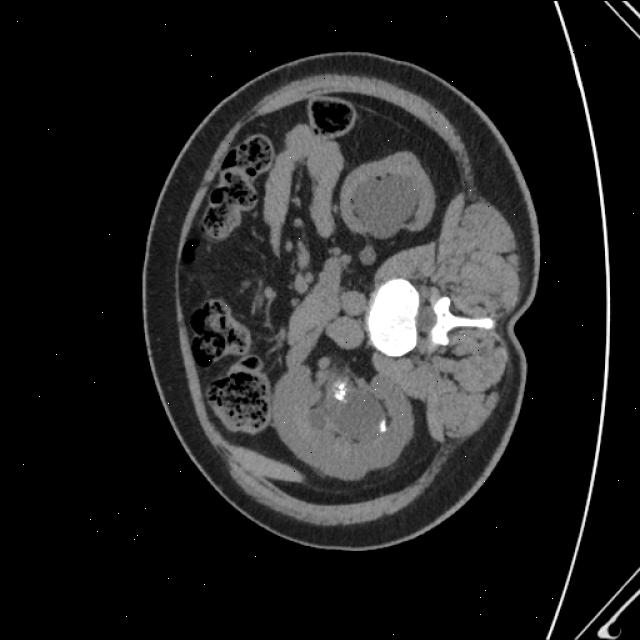kidneystone: (331, 379, 348, 401), (379, 416, 388, 432)
